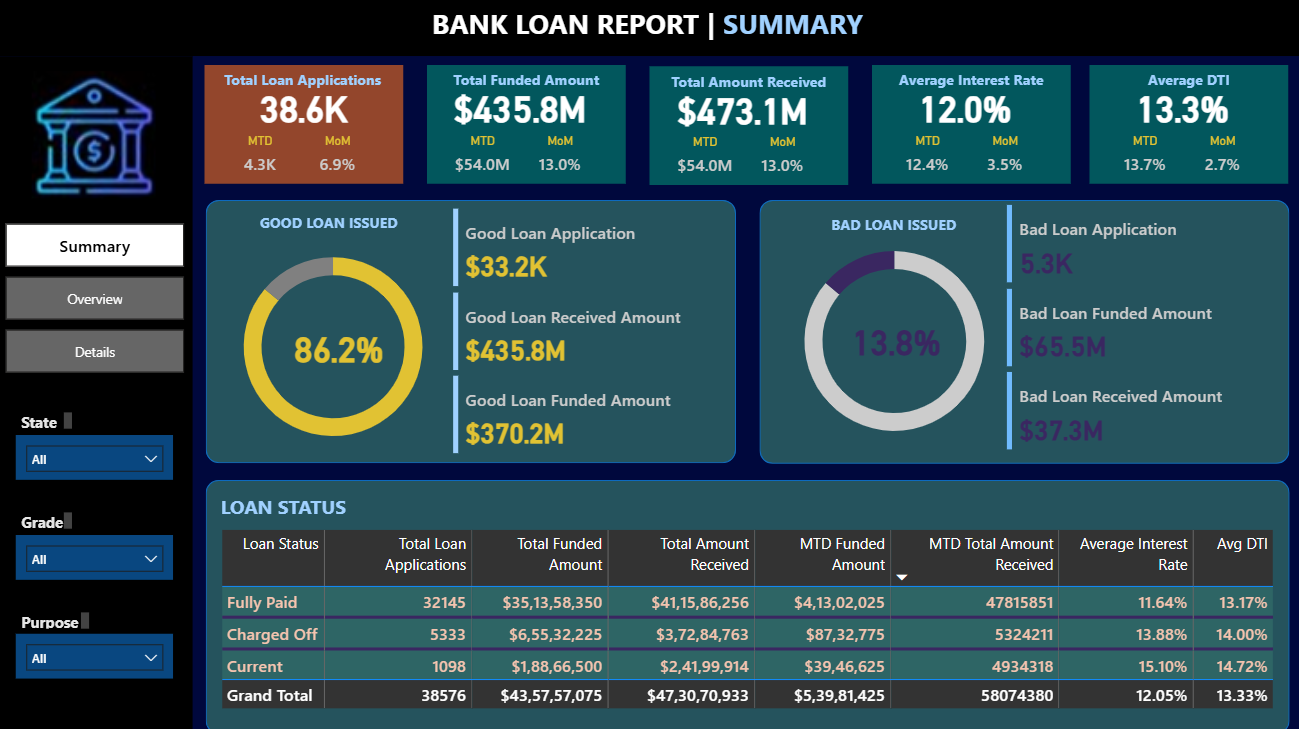

What the dashboard file says about the page in this screenshot:
{"tool":"powerbi","page":{"name":"Summary","canvas":[1280,720],"ordinal":0},"visuals":[{"type":"shape","box":[204.3,196.6,520.5,258.3],"z":0},{"type":"shape","box":[0,0,1279.8,55],"z":1000},{"type":"shape","box":[0,55.2,192,665],"z":2000},{"type":"textbox","box":[422.1,0,436.8,55.2],"z":3000},{"type":"shape","box":[203.7,63.8,195.1,116.6],"z":3000,"group":"g1"},{"type":"shape","box":[421.7,63.8,195.1,116.6],"z":3000,"group":"g2"},{"type":"shape","box":[858.9,63.8,195.1,116.6],"z":3000,"group":"g4"},{"type":"shape","box":[1071.9,63.8,195.1,116.6],"z":3000,"group":"g5"},{"type":"shape","box":[640.3,65,195.1,116.6],"z":3000,"group":"g3"},{"type":"group","id":"g1","title":"Group 1","box":[203.7,63.8,195.1,116.6],"z":4000},{"type":"card","fields":{"Values":["bank_loan_db financial_loans.Total Loan Applications"]},"box":[203.7,78.5,195.1,52.8],"z":4000,"group":"g1"},{"type":"card","fields":{"Values":["bank_loan_db financial_loans.Total Funded Amount"]},"box":[416.1,78.8,195.1,52.8],"z":4000,"group":"g2"},{"type":"card","fields":{"Values":["bank_loan_db financial_loans.Average Interest Rate"]},"box":[853.3,78.8,195.1,52.8],"z":4000,"group":"g4"},{"type":"card","fields":{"Values":["bank_loan_db financial_loans.Avg DTI"]},"box":[1066.3,78.8,195.1,52.8],"z":4000,"group":"g5"},{"type":"card","fields":{"Values":["bank_loan_db financial_loans.Total Amount Received"]},"box":[634.7,80,195.1,52.8],"z":4000,"group":"g3"},{"type":"group","id":"g2","title":"Group 1","box":[416.1,63.8,201.2,116.6],"z":5000},{"type":"textbox","box":[421.7,63.8,195.1,29.4],"z":5000,"group":"g2"},{"type":"textbox","box":[858.9,63.8,195.1,29.4],"z":5000,"group":"g4"},{"type":"textbox","box":[1071.9,63.8,195.1,29.4],"z":5000,"group":"g5"},{"type":"textbox","box":[204.1,64,192.6,29.4],"z":5000,"group":"g1"},{"type":"textbox","box":[640.3,65,195.1,29.4],"z":5000,"group":"g3"},{"type":"card","title":"MTD","fields":{"Values":["bank_loan_db financial_loans.MTD Loan Applications"]},"box":[225.8,131.3,65,49.1],"z":6000,"group":"g1"},{"type":"card","title":"MTD","fields":{"Values":["bank_loan_db financial_loans.MTD Funded Amount"]},"box":[443.8,131.3,65,49.1],"z":6000,"group":"g2"},{"type":"card","title":"MTD","fields":{"Values":["bank_loan_db financial_loans.MTD Avg Int Rate"]},"box":[881,131.3,65,49.1],"z":6000,"group":"g4"},{"type":"card","title":"MTD","fields":{"Values":["bank_loan_db financial_loans.MTD Avg DTI"]},"box":[1094,131.3,65,49.1],"z":6000,"group":"g5"},{"type":"card","title":"MTD","fields":{"Values":["bank_loan_db financial_loans.MTD Funded Amount"]},"box":[662.4,132.5,65,49.1],"z":6000,"group":"g3"},{"type":"textbox","box":[229.4,203.7,192.6,38],"z":6000},{"type":"card","title":"MoM","fields":{"Values":["bank_loan_db financial_loans.MoM Loan Applications"]},"box":[301.9,131.3,65,49.1],"z":7000,"group":"g1"},{"type":"card","title":"MoM","fields":{"Values":["bank_loan_db financial_loans.MoM Total Funded Amount"]},"box":[519.9,131.3,65,49.1],"z":7000,"group":"g2"},{"type":"card","title":"MoM","fields":{"Values":["bank_loan_db financial_loans.MoM Avg Int Rate"]},"box":[957.1,131.3,65,49.1],"z":7000,"group":"g4"},{"type":"card","title":"MoM","fields":{"Values":["bank_loan_db financial_loans.MoM Avg DTI"]},"box":[1170.1,131.3,65,49.1],"z":7000,"group":"g5"},{"type":"card","title":"MoM","fields":{"Values":["bank_loan_db financial_loans.MoM Total Funded Amount"]},"box":[738.5,132.5,65,49.1],"z":7000,"group":"g3"},{"type":"card","fields":{"Values":["bank_loan_db financial_loans.Good Loan %"]},"box":[274.8,315.3,121.5,50.3],"z":7000},{"type":"group","id":"g3","title":"Group 1","box":[634.7,65,201.2,116.6],"z":8000},{"type":"group","id":"g4","title":"Group 1","box":[853.3,63.8,201.2,116.6],"z":9000},{"type":"group","id":"g5","title":"Group 1","box":[1066.3,63.8,200.7,116.6],"z":10000},{"type":"shape","box":[748.5,196.3,520.2,258.9],"z":11000},{"type":"donutChart","fields":{"Category":["bank_loan_db financial_loans.Good vs Bad Loan"],"Y":["bank_loan_db financial_loans.Total Loan Applications"]},"box":[204.9,225.8,250.3,229.4],"z":12000},{"type":"cardVisual","fields":{"Data":["bank_loan_db financial_loans.Good Loan Application","bank_loan_db financial_loans.Good Loan Received Amount","bank_loan_db financial_loans.Good Loan Funded Amount"]},"box":[443.4,200.5,277.6,250.6],"z":13000},{"type":"donutChart","fields":{"Category":["bank_loan_db financial_loans.Good vs Bad Loan"],"Y":["bank_loan_db financial_loans.Total Loan Applications"]},"box":[755.8,219.6,250.3,230.7],"z":14000},{"type":"textbox","box":[784.1,206.1,192.6,38],"z":15000},{"type":"card","fields":{"Values":["bank_loan_db financial_loans.Bad Loan %"]},"box":[822.1,309.2,121.5,50.3],"z":16000},{"type":"shape","box":[204.9,471.2,1063.8,249.1],"z":17000},{"type":"tableEx","fields":{"Values":["bank_loan_db financial_loans.loan_status","bank_loan_db financial_loans.Total Loan Applications","bank_loan_db financial_loans.Total Funded Amount","bank_loan_db financial_loans.Total Amount Received","bank_loan_db financial_loans.MTD Funded Amount","bank_loan_db financial_loans.MTD Total Amount Received","bank_loan_db financial_loans.Average Interest Rate","bank_loan_db financial_loans.Avg DTI"]},"box":[214.7,515.3,1046.6,193.9],"z":18000},{"type":"cardVisual","fields":{"Data":["bank_loan_db financial_loans.Bad Loan Application","bank_loan_db financial_loans.Bad Loan Funded Amount","bank_loan_db financial_loans.Bad Loan Received Amount"]},"box":[986.5,196.3,278.5,250.3],"z":19000},{"type":"textbox","box":[214.7,479.8,184.1,35.6],"z":20000},{"type":"slicer","fields":{"Values":["bank_loan_db financial_loans.address_state"]},"box":[18.4,427,154.6,44.2],"z":21000},{"type":"textbox","box":[18.4,400,60.1,25.8],"z":22000},{"type":"slicer","fields":{"Values":["bank_loan_db financial_loans.grade"]},"box":[18.4,525.2,154.6,44.2],"z":23000},{"type":"textbox","box":[18.4,498.2,60.1,25.8],"z":24000},{"type":"slicer","fields":{"Values":["bank_loan_db financial_loans.purpose"]},"box":[18.4,622.1,154.6,44.2],"z":25000},{"type":"textbox","box":[18.4,596.3,77.3,25.8],"z":26000},{"type":"image","box":[22.1,65,146,135],"z":27000},{"type":"pageNavigator","box":[8.6,219.6,175.5,146],"z":28000}]}

Visuals, with their boxes in screenshot pixels (x1, y1, x2, y2), scaled from the page's 1280x720 canvas onto the 1299x729 screenshot:
shape: 207, 199, 736, 461
shape: 0, 0, 1298, 56
shape: 0, 56, 195, 728
textbox: 428, 0, 872, 56
shape: 207, 65, 405, 183
shape: 428, 65, 626, 183
shape: 872, 65, 1070, 183
shape: 1088, 65, 1286, 183
shape: 650, 66, 848, 184
"Group 1" group: 207, 65, 405, 183
card - bank_loan_db financial_loans.Total Loan Applications: 207, 79, 405, 133
card - bank_loan_db financial_loans.Total Funded Amount: 422, 80, 620, 133
card - bank_loan_db financial_loans.Average Interest Rate: 866, 80, 1064, 133
card - bank_loan_db financial_loans.Avg DTI: 1082, 80, 1280, 133
card - bank_loan_db financial_loans.Total Amount Received: 644, 81, 842, 134
"Group 1" group: 422, 65, 626, 183
textbox: 428, 65, 626, 94
textbox: 872, 65, 1070, 94
textbox: 1088, 65, 1286, 94
textbox: 207, 65, 403, 95
textbox: 650, 66, 848, 96
"MTD" card: 229, 133, 295, 183
"MTD" card: 450, 133, 516, 183
"MTD" card: 894, 133, 960, 183
"MTD" card: 1110, 133, 1176, 183
"MTD" card: 672, 134, 738, 184
textbox: 233, 206, 428, 245
"MoM" card: 306, 133, 372, 183
"MoM" card: 528, 133, 594, 183
"MoM" card: 971, 133, 1037, 183
"MoM" card: 1187, 133, 1253, 183
"MoM" card: 749, 134, 815, 184
card - bank_loan_db financial_loans.Good Loan %: 279, 319, 402, 370
"Group 1" group: 644, 66, 848, 184
"Group 1" group: 866, 65, 1070, 183
"Group 1" group: 1082, 65, 1286, 183
shape: 760, 199, 1288, 461
donutChart - bank_loan_db financial_loans.Good vs Bad Loan x bank_loan_db financial_loans.Total Loan Applications: 208, 229, 462, 461
cardVisual - bank_loan_db financial_loans.Good Loan Application x bank_loan_db financial_loans.Good Loan Received Amount: 450, 203, 732, 457
donutChart - bank_loan_db financial_loans.Good vs Bad Loan x bank_loan_db financial_loans.Total Loan Applications: 767, 222, 1021, 456
textbox: 796, 209, 991, 247
card - bank_loan_db financial_loans.Bad Loan %: 834, 313, 958, 364
shape: 208, 477, 1288, 728
tableEx - bank_loan_db financial_loans.loan_status x bank_loan_db financial_loans.Total Loan Applications: 218, 522, 1280, 718
cardVisual - bank_loan_db financial_loans.Bad Loan Application x bank_loan_db financial_loans.Bad Loan Funded Amount: 1001, 199, 1284, 452
textbox: 218, 486, 405, 522
slicer - bank_loan_db financial_loans.address_state: 19, 432, 176, 477
textbox: 19, 405, 80, 431
slicer - bank_loan_db financial_loans.grade: 19, 532, 176, 577
textbox: 19, 504, 80, 531
slicer - bank_loan_db financial_loans.purpose: 19, 630, 176, 675
textbox: 19, 604, 97, 630
image: 22, 66, 171, 202
pageNavigator: 9, 222, 187, 370
